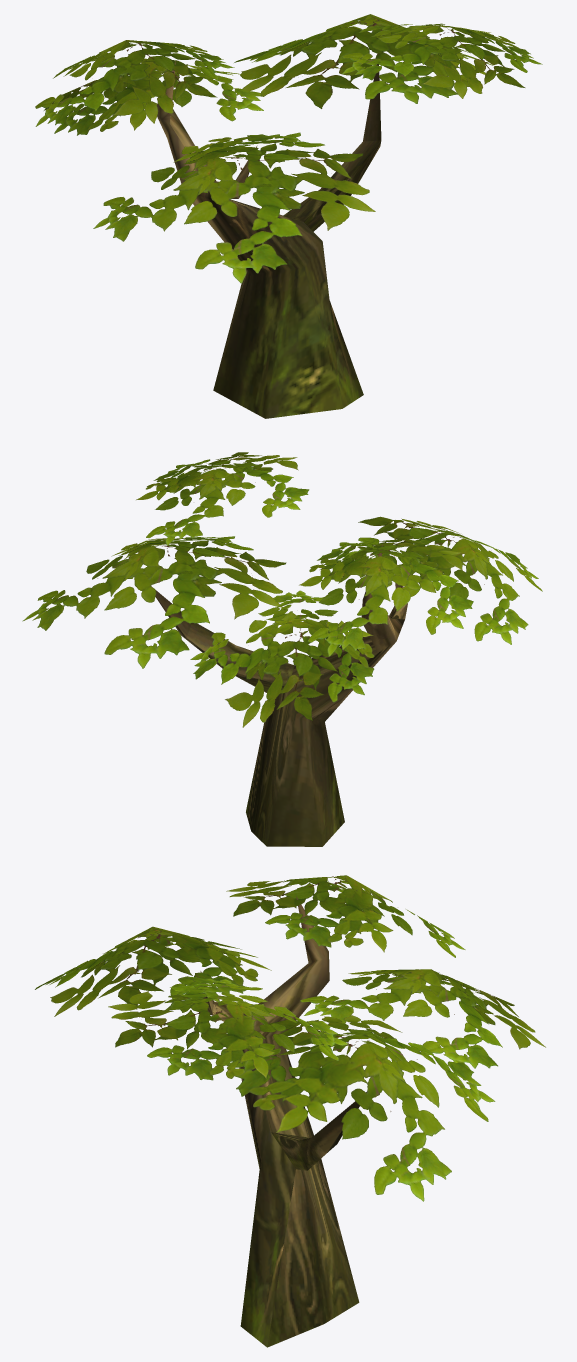
File: SL_shu02.FBX
3 views of the same model, one above another, from view 1: azimuth 30°, elevation 25°; view 2: azimuth 150°, elevation 25°; view 3: azimuth 270°, elevation 25° (orthographic). The views are drawn at different scales.
Visible parts, largest first — view 1: DrawCall_335, 对象154, 对象153, 对象152, 对象151, 对象157; view 2: DrawCall_335, 对象153, 对象157, 对象152, 对象154, 对象151; view 3: DrawCall_335, 对象153, 对象151, 对象157, 对象154, 对象152.
Boxes of the visible parts, x1=… form: DrawCall_335: x1=157, y1=61, x2=381, y2=418; 对象154: x1=93, y1=132, x2=375, y2=283; 对象153: x1=234, y1=14, x2=493, y2=108; 对象152: x1=35, y1=40, x2=234, y2=126; 对象151: x1=342, y1=23, x2=542, y2=98; 对象157: x1=44, y1=58, x2=263, y2=135; DrawCall_335: x1=151, y1=544, x2=407, y2=846; 对象153: x1=22, y1=536, x2=286, y2=668; 对象157: x1=190, y1=590, x2=374, y2=727; 对象152: x1=299, y1=534, x2=473, y2=656; 对象154: x1=344, y1=516, x2=542, y2=644; 对象151: x1=136, y1=452, x2=309, y2=545; DrawCall_335: x1=200, y1=896, x2=367, y2=1347; 对象153: x1=228, y1=1015, x2=495, y2=1201; 对象151: x1=108, y1=977, x2=348, y2=1080; 对象157: x1=300, y1=969, x2=545, y2=1068; 对象154: x1=35, y1=926, x2=271, y2=1016; 对象152: x1=226, y1=875, x2=465, y2=957.
Size of the model in its own units: 4.73 by 3.37 by 4.47.
